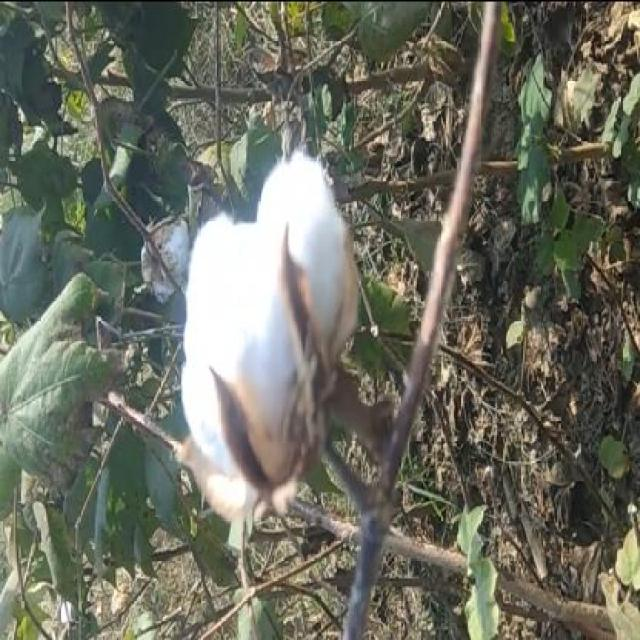cotton_ready: (155, 154, 413, 554)
